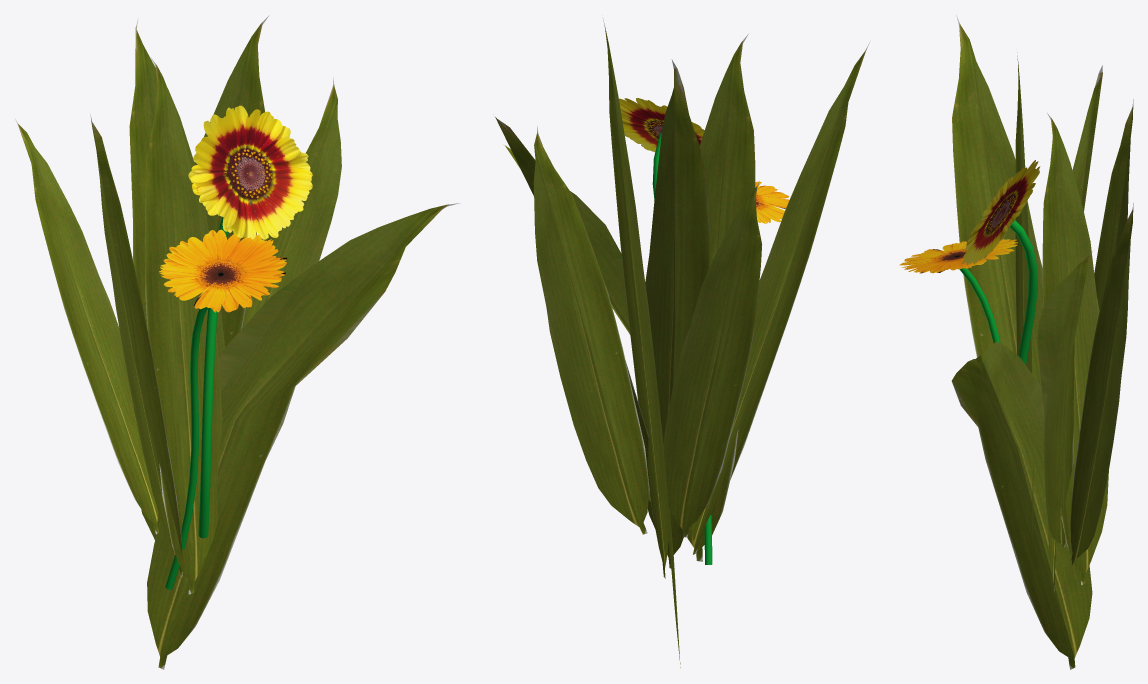
File: topfpflanze_final.glb
3 views of the same model, side by side, from view 1: azimuth 30°, elevation 25°; view 2: azimuth 150°, elevation 25°; view 3: azimuth 270°, elevation 25° (orthographic). The views are drawn at different scales.
Parts seen in each view (by area): view 1: BezierCurve; view 2: BezierCurve; view 3: BezierCurve.
Part boxes in pixels (x1,y1,x2,y2): BezierCurve: (15, 15, 460, 669); BezierCurve: (495, 17, 869, 667); BezierCurve: (899, 15, 1133, 669).
Size of the model in its own units: 2.7 by 4.39 by 1.55.
Materials: 4 (3 with a texture image).
